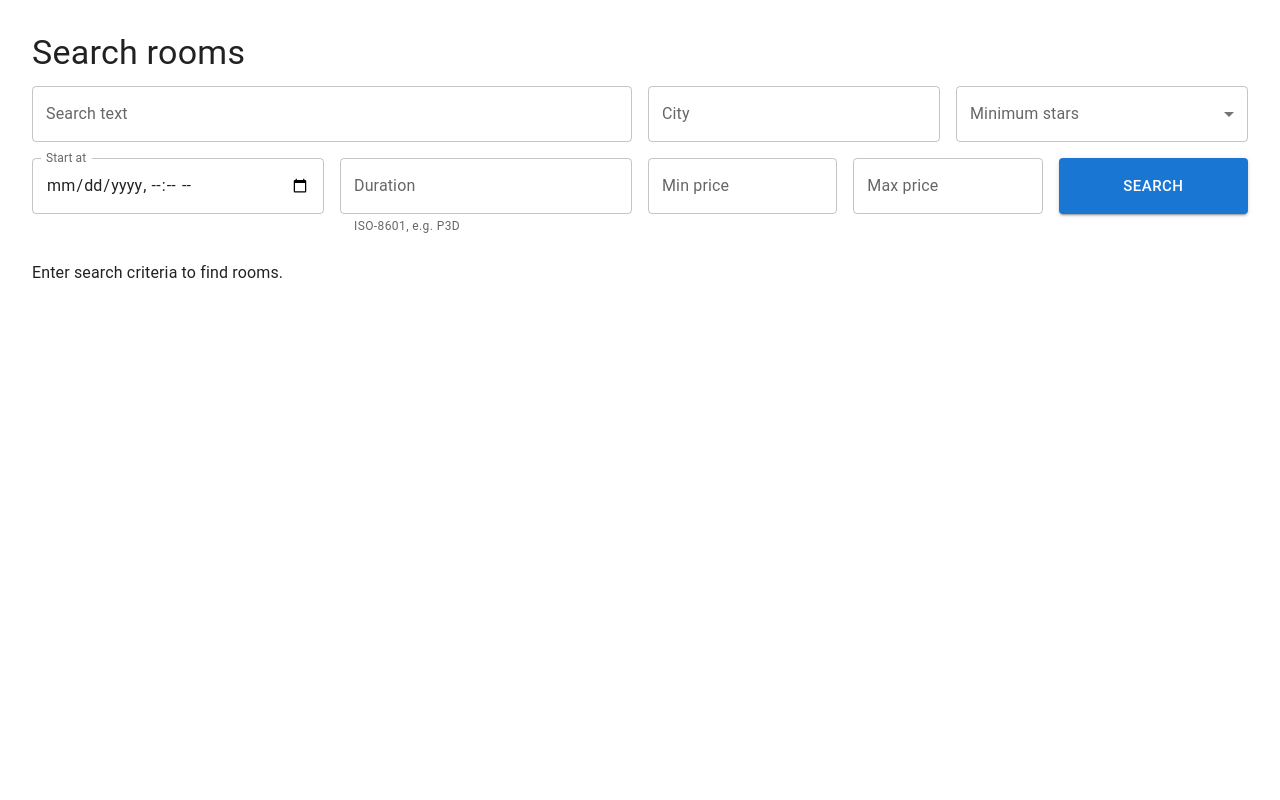
Test: SearchRoomsScreen › shows an error with a retry that repeats the search
Type "sea view" into the field labelled "Search text" at [332, 114], box [32,86,632,142]
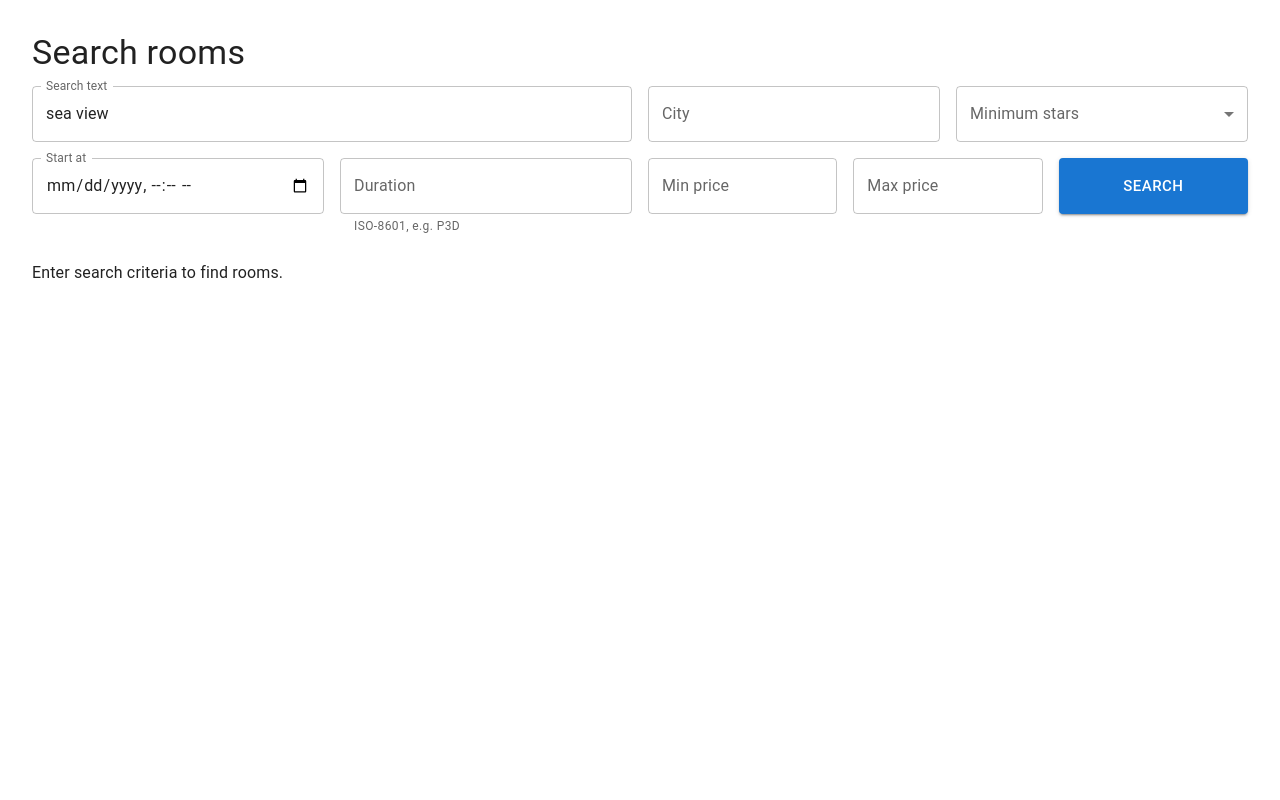
Click the button "Search" at [1153, 186], box [1059,158,1248,214]
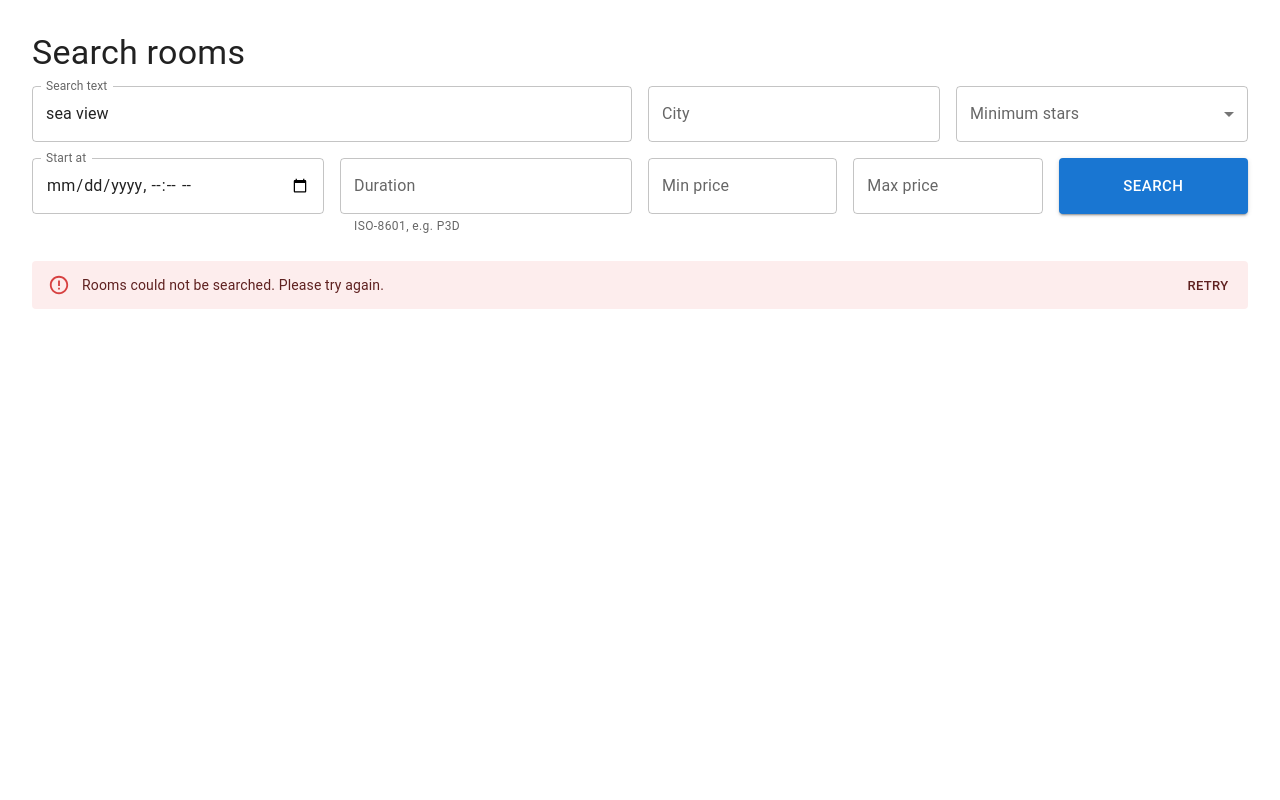
Expected: the message shows "Rooms could not be searched", [82,277,384,293]
Click the button "Retry" at [1208, 286], box [1176,271,1240,302]
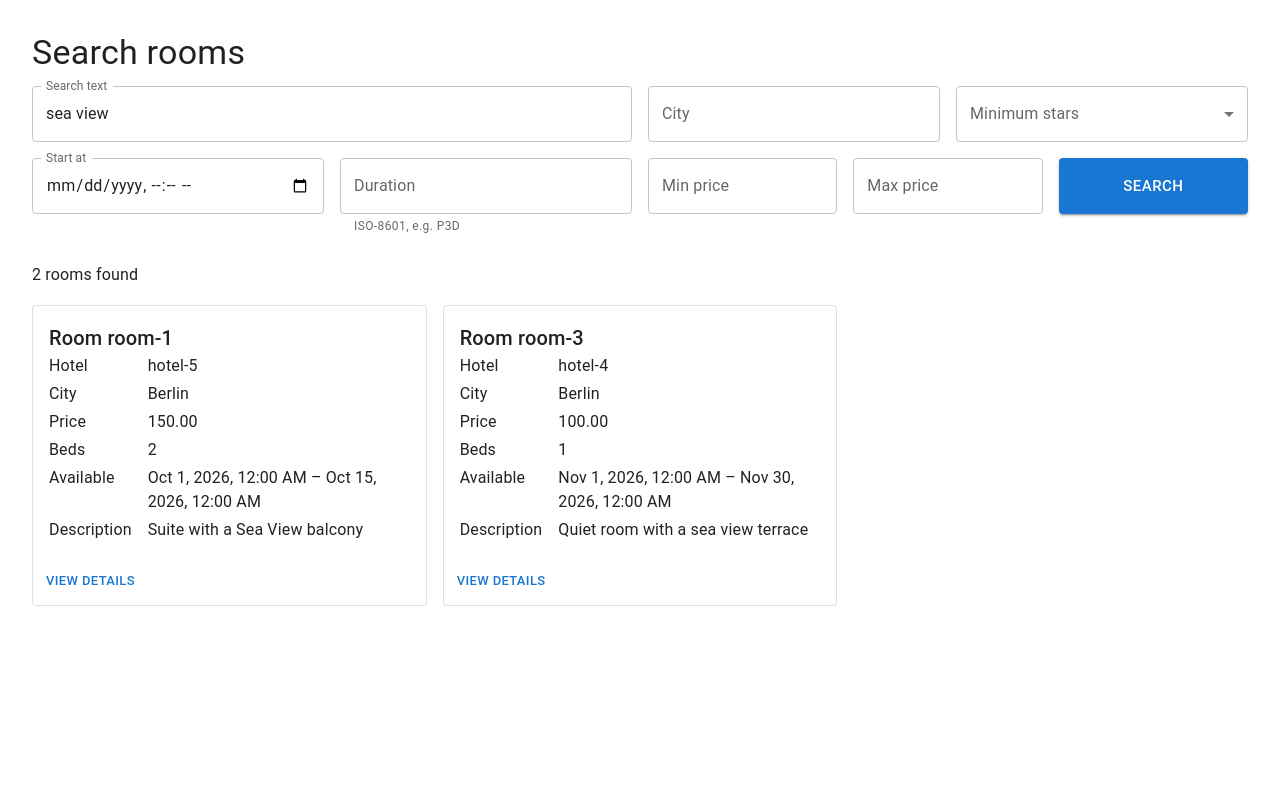
Expected: the text "2 rooms found" is shown, [32,265,138,284]
